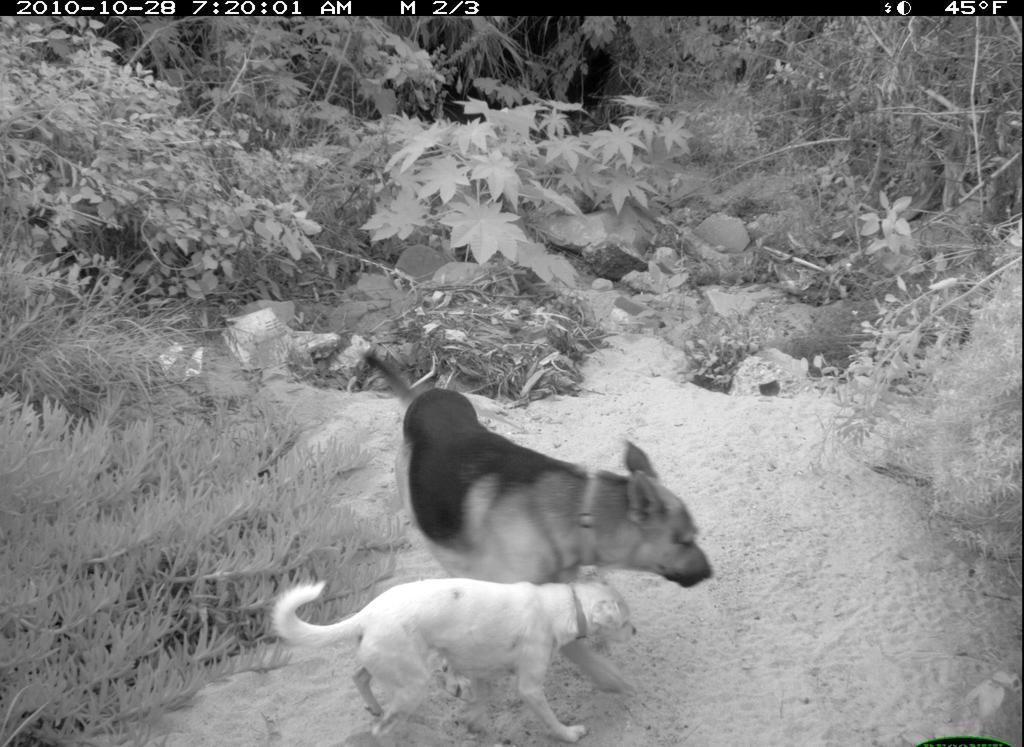dog: (337, 326, 748, 619), (265, 570, 653, 742)
